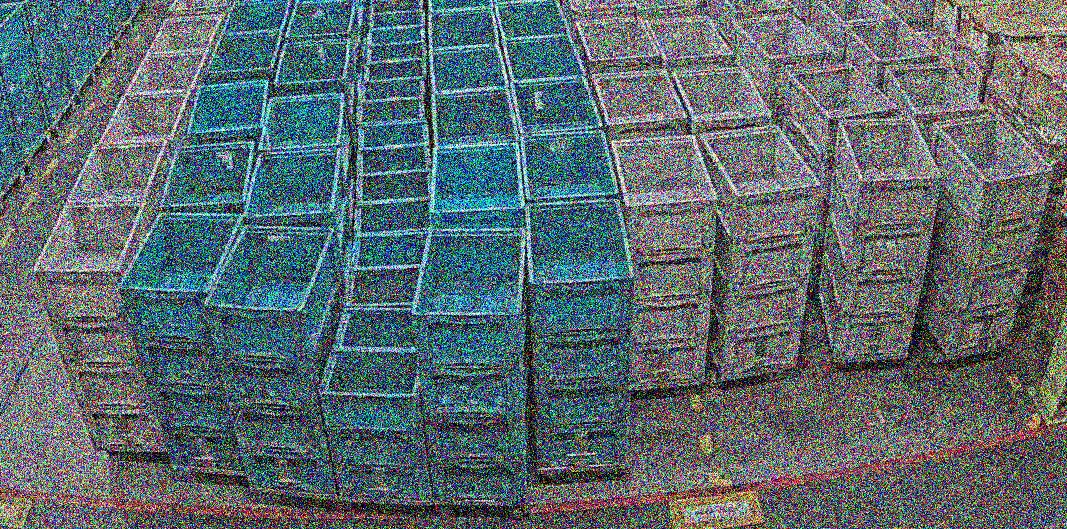4G: (32, 199, 168, 453), (919, 113, 1053, 356), (700, 125, 821, 381), (818, 118, 943, 363), (611, 135, 718, 391)
B4: (207, 218, 338, 495), (117, 212, 245, 471), (411, 228, 526, 503), (525, 199, 635, 468)
B8: (318, 307, 432, 500)
